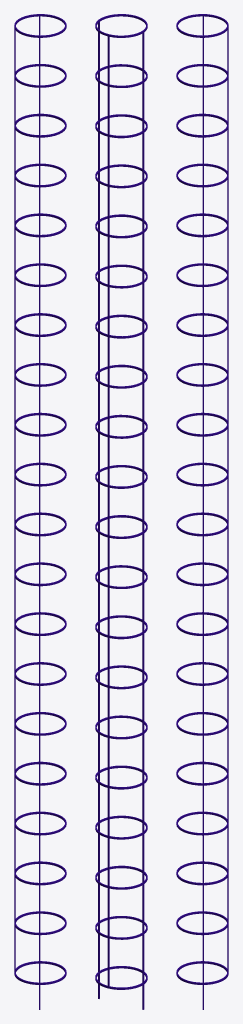
File: rail.glb
3 views of the same model, side by side, from view 1: azimuth 90°, elevation 25°; view 2: azimuth 150°, elevation 25°; view 3: azimuth 270°, elevation 25° (orthographic).
Parts seen in each view (by area): view 1: Body1.001; view 2: Body1.001; view 3: Body1.001.
Boxes of the visible parts, box(x1,y1,x2,y2) form: Body1.001: box(14, 14, 66, 1009); Body1.001: box(95, 14, 147, 1009); Body1.001: box(176, 14, 228, 1009).
Size of the model in its own units: 0.038 by 0.7815 by 0.038.
